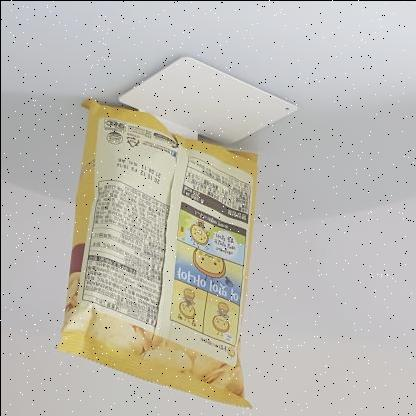Others: (48, 93, 264, 413)
